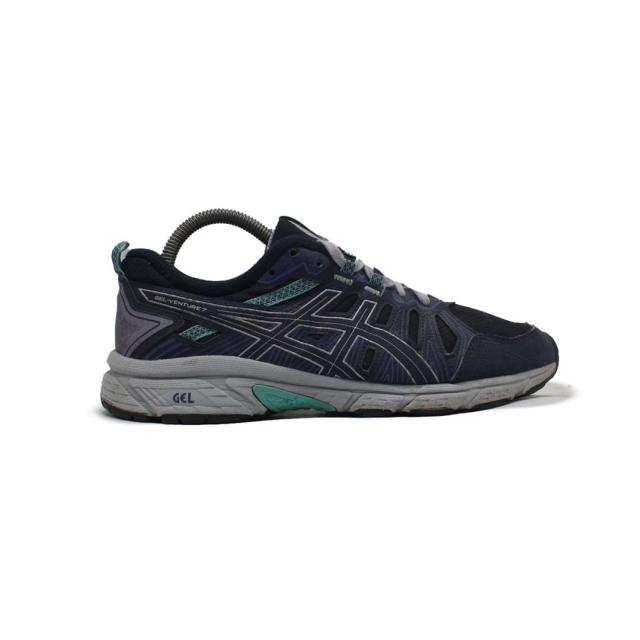heel: (87, 215, 153, 360)
midsole: (105, 348, 568, 422)
uppersole: (152, 224, 566, 380)
